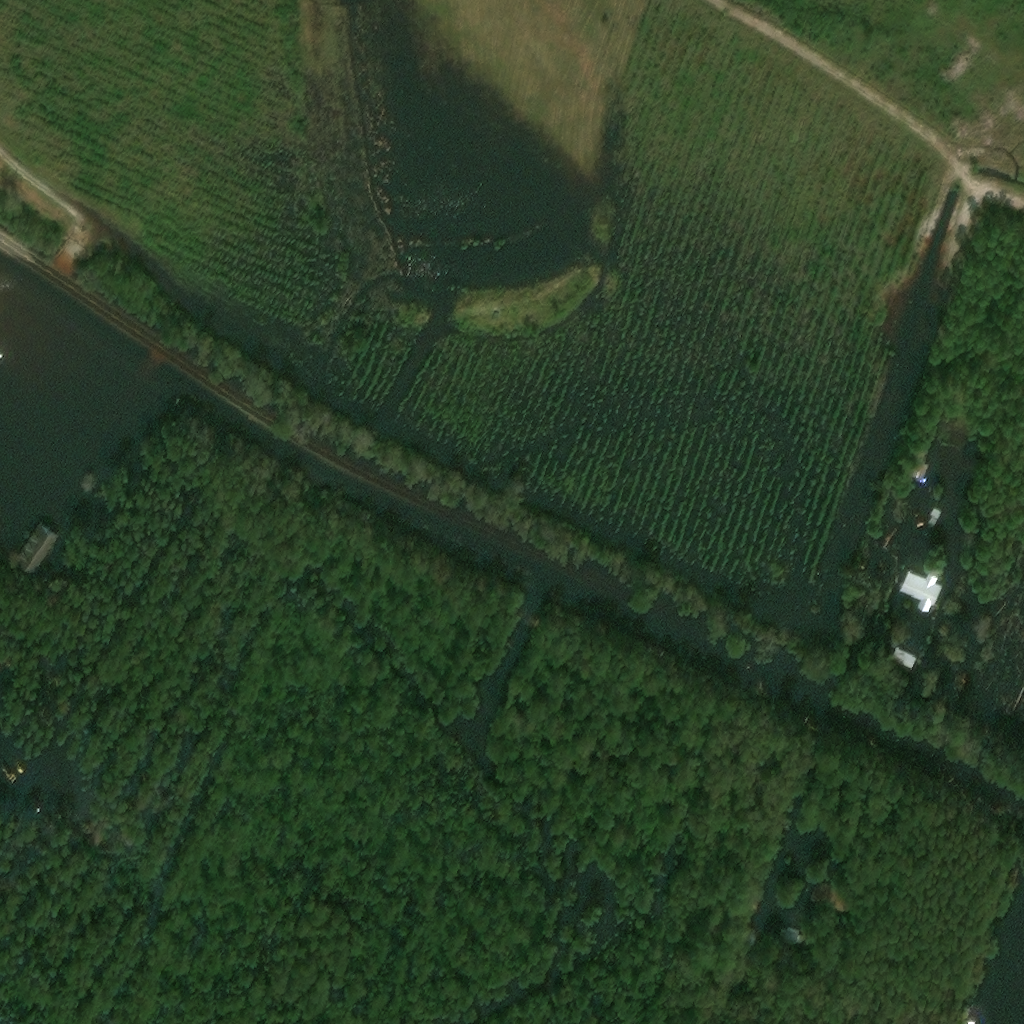major_damage: (15, 522, 57, 573), (900, 573, 944, 614), (910, 445, 930, 479), (892, 649, 917, 670), (781, 926, 805, 946), (814, 881, 829, 892), (932, 509, 944, 521)
